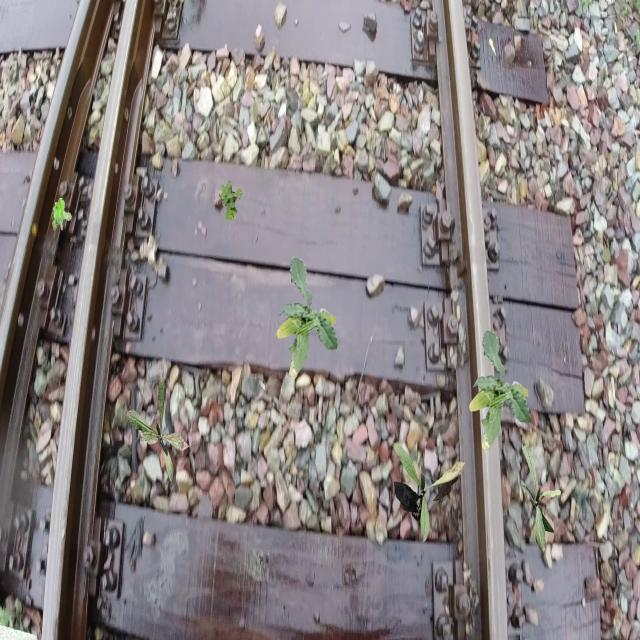Plant: (469, 329, 532, 454), (276, 256, 338, 380), (126, 377, 190, 489), (394, 443, 466, 542), (522, 444, 562, 554), (219, 181, 243, 222), (51, 198, 72, 231)
